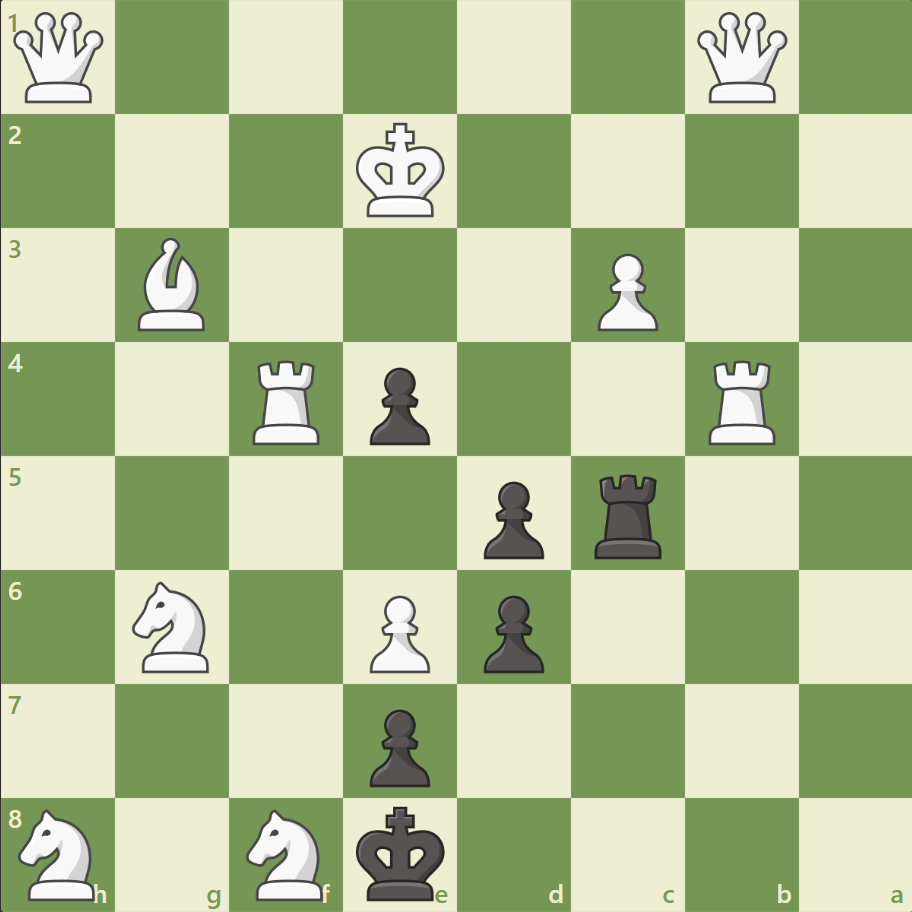B: (131, 233, 215, 336)
K: (351, 117, 451, 225)
N: (124, 575, 222, 677), (238, 802, 335, 904), (11, 802, 108, 904)
P: (361, 586, 435, 677), (588, 246, 662, 337)
Q: (691, 9, 790, 108), (10, 9, 109, 108)
R: (700, 352, 783, 449), (246, 352, 329, 449)
k: (351, 798, 451, 906)
p: (474, 586, 549, 677), (474, 473, 549, 564), (361, 700, 435, 791), (361, 359, 435, 450)
r: (587, 466, 670, 563)
